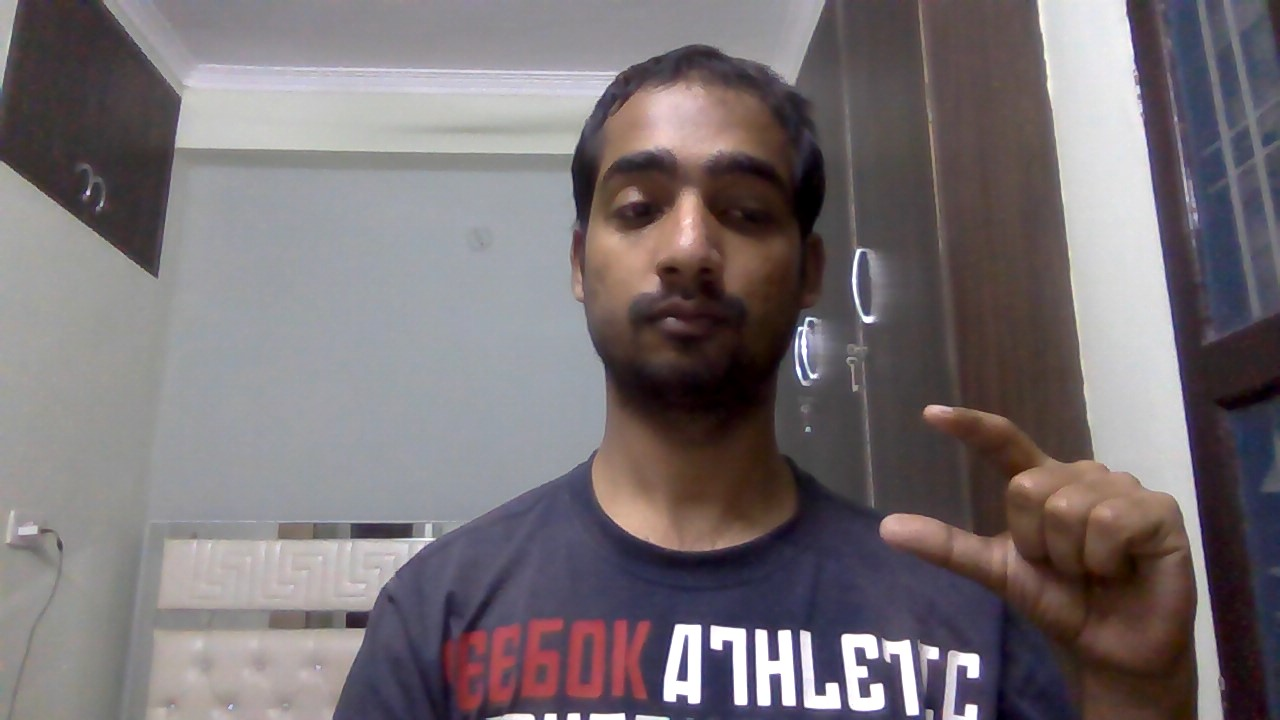Paste: (874, 394, 1215, 687)
